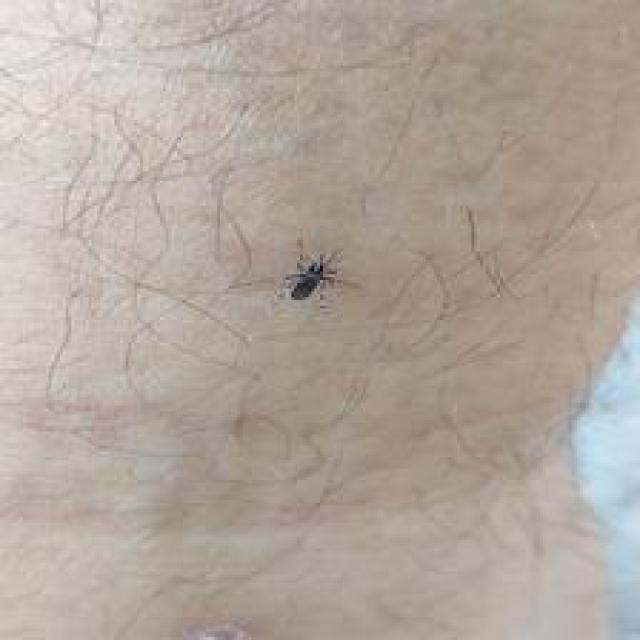Aedes albopictus: (283, 247, 343, 302)
